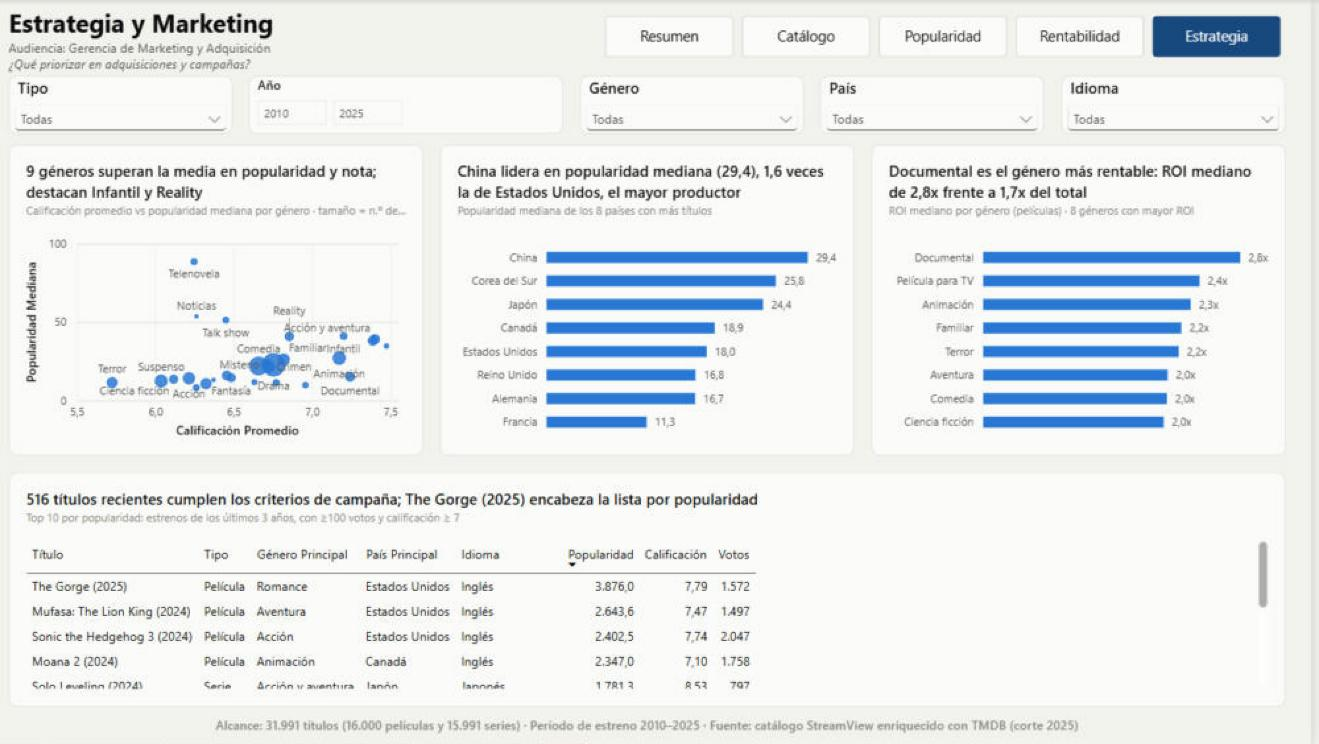

What the dashboard file says about the page in this screenshot:
{"tool":"powerbi","page":{"name":"Estrategia","canvas":[1280,720],"ordinal":4},"visuals":[{"type":"textbox","box":[24,6,560,64],"z":1000},{"type":"pageNavigator","box":[600,16,656,40],"z":2000},{"type":"slicer","fields":{"Values":["Contenido.Tipo"]},"box":[24,74,216.3,56],"z":3000},{"type":"slicer","fields":{"Values":["Calendario.Año"]},"box":[256.3,74,302.8,56],"z":4000},{"type":"slicer","fields":{"Values":["Genero.Género"]},"box":[575.1,74,216.3,56],"z":5000},{"type":"slicer","fields":{"Values":["Pais.País"]},"box":[807.4,74,216.3,56],"z":6000},{"type":"slicer","fields":{"Values":["Contenido.Idioma"]},"box":[1039.7,74,216.3,56],"z":7000},{"type":"scatterChart","fields":{"Category":["Genero.Género"],"Size":["Medidas.Total Contenidos"],"X":["Medidas.Calificación Promedio"],"Y":["Medidas.Popularidad Mediana"]},"box":[24,140,400,300],"z":8000},{"type":"clusteredBarChart","fields":{"Category":["Pais.País"],"Y":["Medidas.Popularidad Mediana"]},"box":[440,140,400,300],"z":9000},{"type":"clusteredBarChart","fields":{"Category":["Genero.Género"],"Y":["Medidas.ROI Mediano"]},"box":[856,140,400,300],"z":10000},{"type":"tableEx","fields":{"Values":["Contenido.Título (Año)","Contenido.Tipo","Contenido.Género Principal","Contenido.País Principal","Contenido.Idioma","Medidas.Popularidad Candidatos Promoción","Medidas.Calificación Promedio","Medidas.Total Votos"]},"box":[24,456,1232,226],"z":11000},{"type":"card","fields":{"Values":["Medidas.Texto Alcance"]},"box":[24,686,1232,32],"z":12000}]}

Visuals, with their boxes in screenshot pixels (x1, y1, x2, y2), scaled from the page's 1280x720 canvas onto the 1319x744 screenshot:
textbox: box(25, 6, 602, 72)
pageNavigator: box(618, 17, 1294, 58)
slicer - Contenido.Tipo: box(25, 76, 248, 134)
slicer - Calendario.Año: box(264, 76, 576, 134)
slicer - Genero.Género: box(593, 76, 816, 134)
slicer - Pais.País: box(832, 76, 1055, 134)
slicer - Contenido.Idioma: box(1071, 76, 1294, 134)
scatterChart - Genero.Género x Medidas.Total Contenidos: box(25, 145, 437, 455)
clusteredBarChart - Pais.País x Medidas.Popularidad Mediana: box(453, 145, 866, 455)
clusteredBarChart - Genero.Género x Medidas.ROI Mediano: box(882, 145, 1294, 455)
tableEx - Contenido.Título (Año) x Contenido.Tipo: box(25, 471, 1294, 705)
card - Medidas.Texto Alcance: box(25, 709, 1294, 742)
